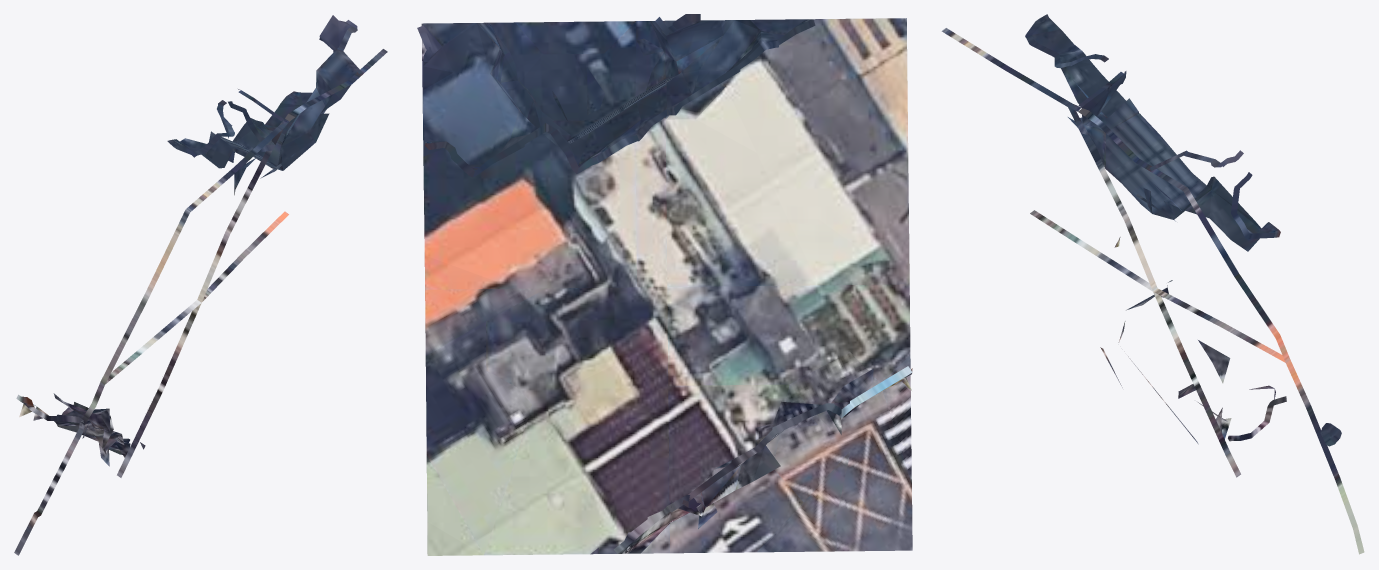
The picture shows the model from 3 angles, left to right: view 1: azimuth 30°, elevation 25°; view 2: azimuth 150°, elevation 25°; view 3: azimuth 270°, elevation 25°; orthographic projection. The views are drawn at different scales.
Size of the model in its own units: 37.9 by 37.57 by 32.33.
Materials: 1 (1 with a texture image).
